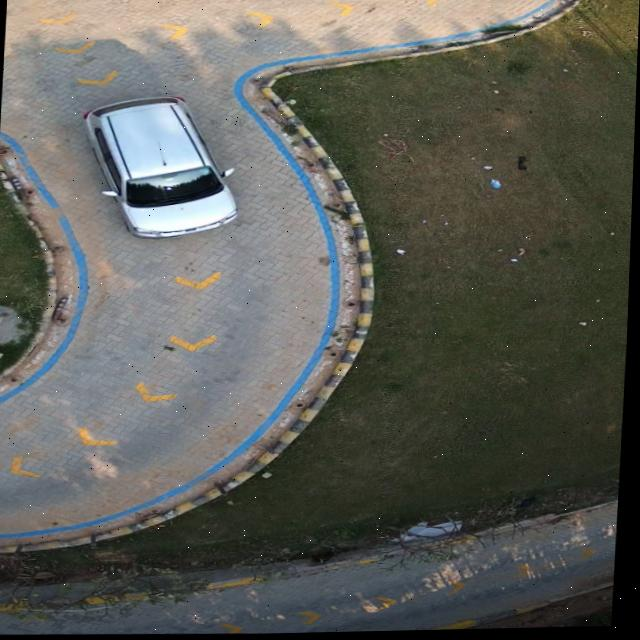car: (85, 97, 238, 238)
